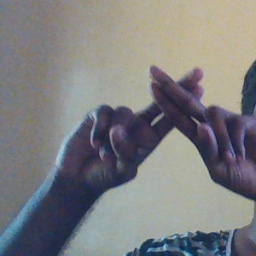F: (99, 50, 249, 164)
